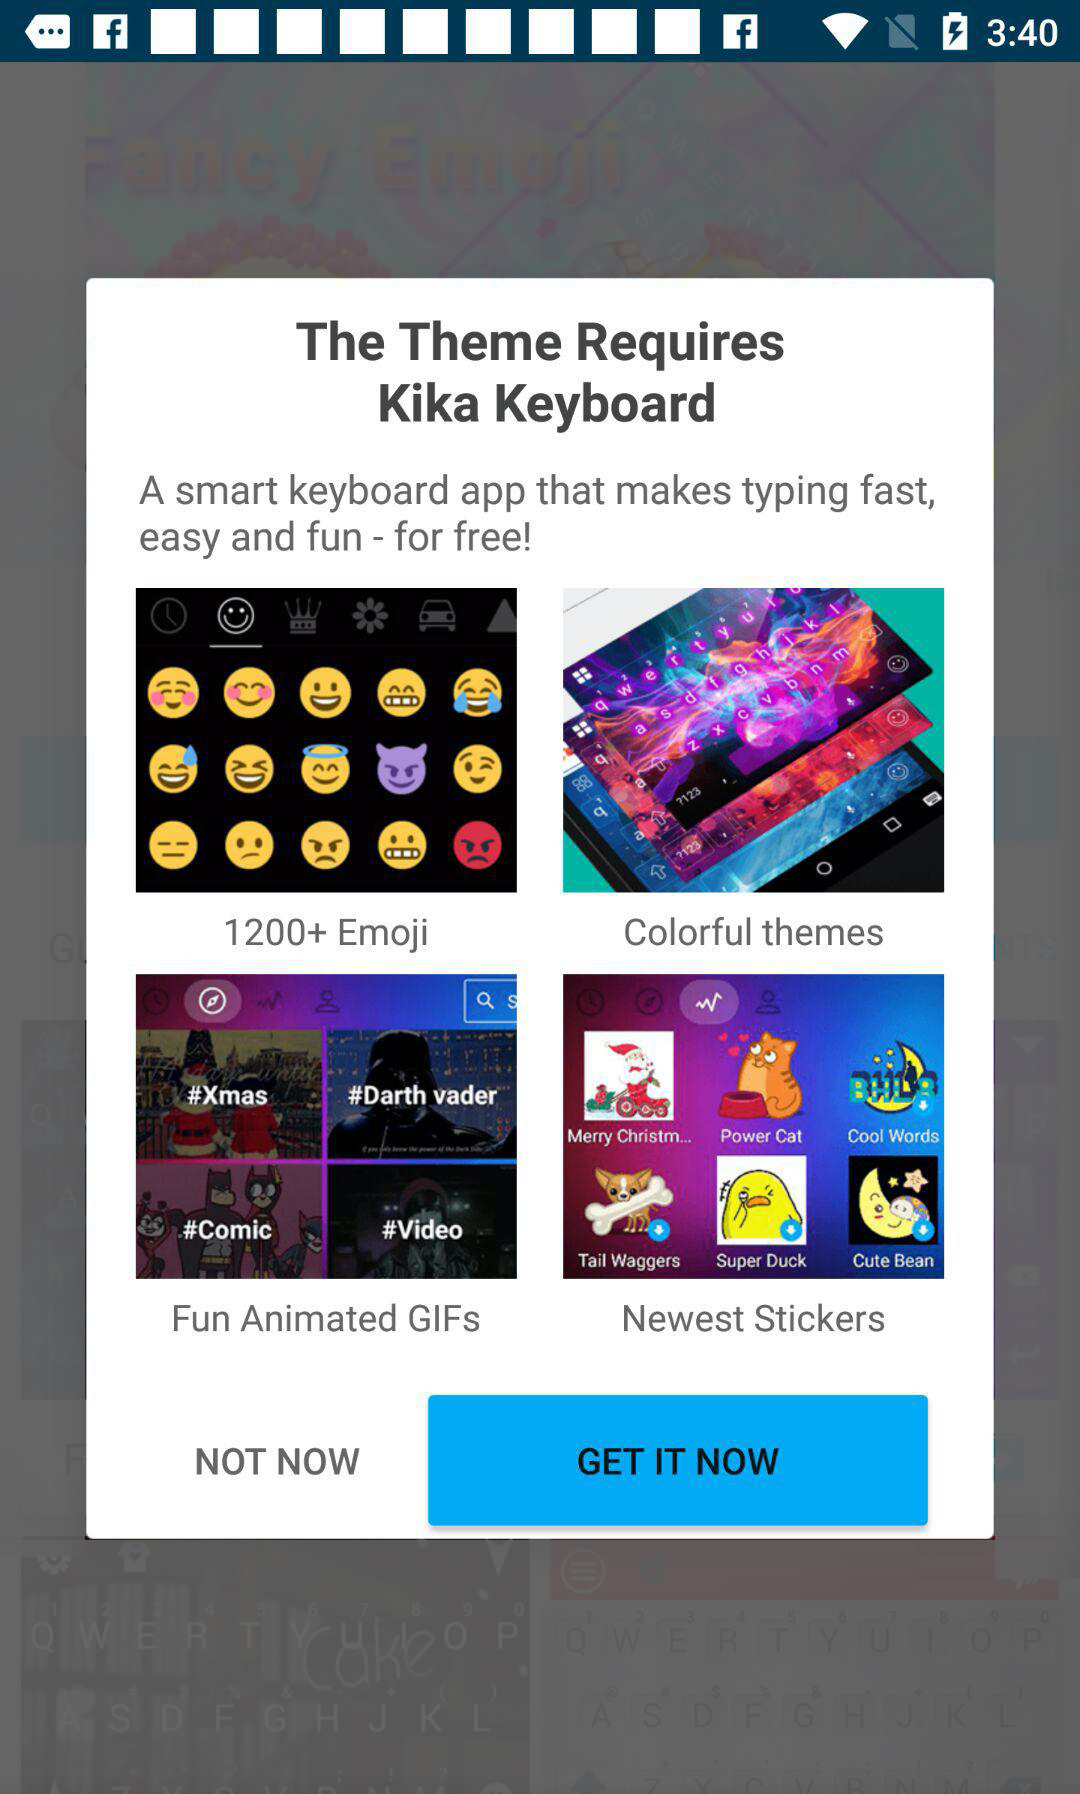Image: (562, 974, 945, 1280), (562, 588, 945, 894), (136, 974, 518, 1280), (136, 588, 518, 894)
Modal: (86, 277, 995, 1540)
Text: (138, 473, 937, 563), (295, 320, 787, 434), (173, 1302, 480, 1334), (624, 1302, 887, 1334), (624, 916, 885, 948), (225, 918, 429, 955), (196, 1445, 361, 1476)
TextButton: (428, 1394, 929, 1526)
UpperTaskBar: (1, 1, 1080, 64)
